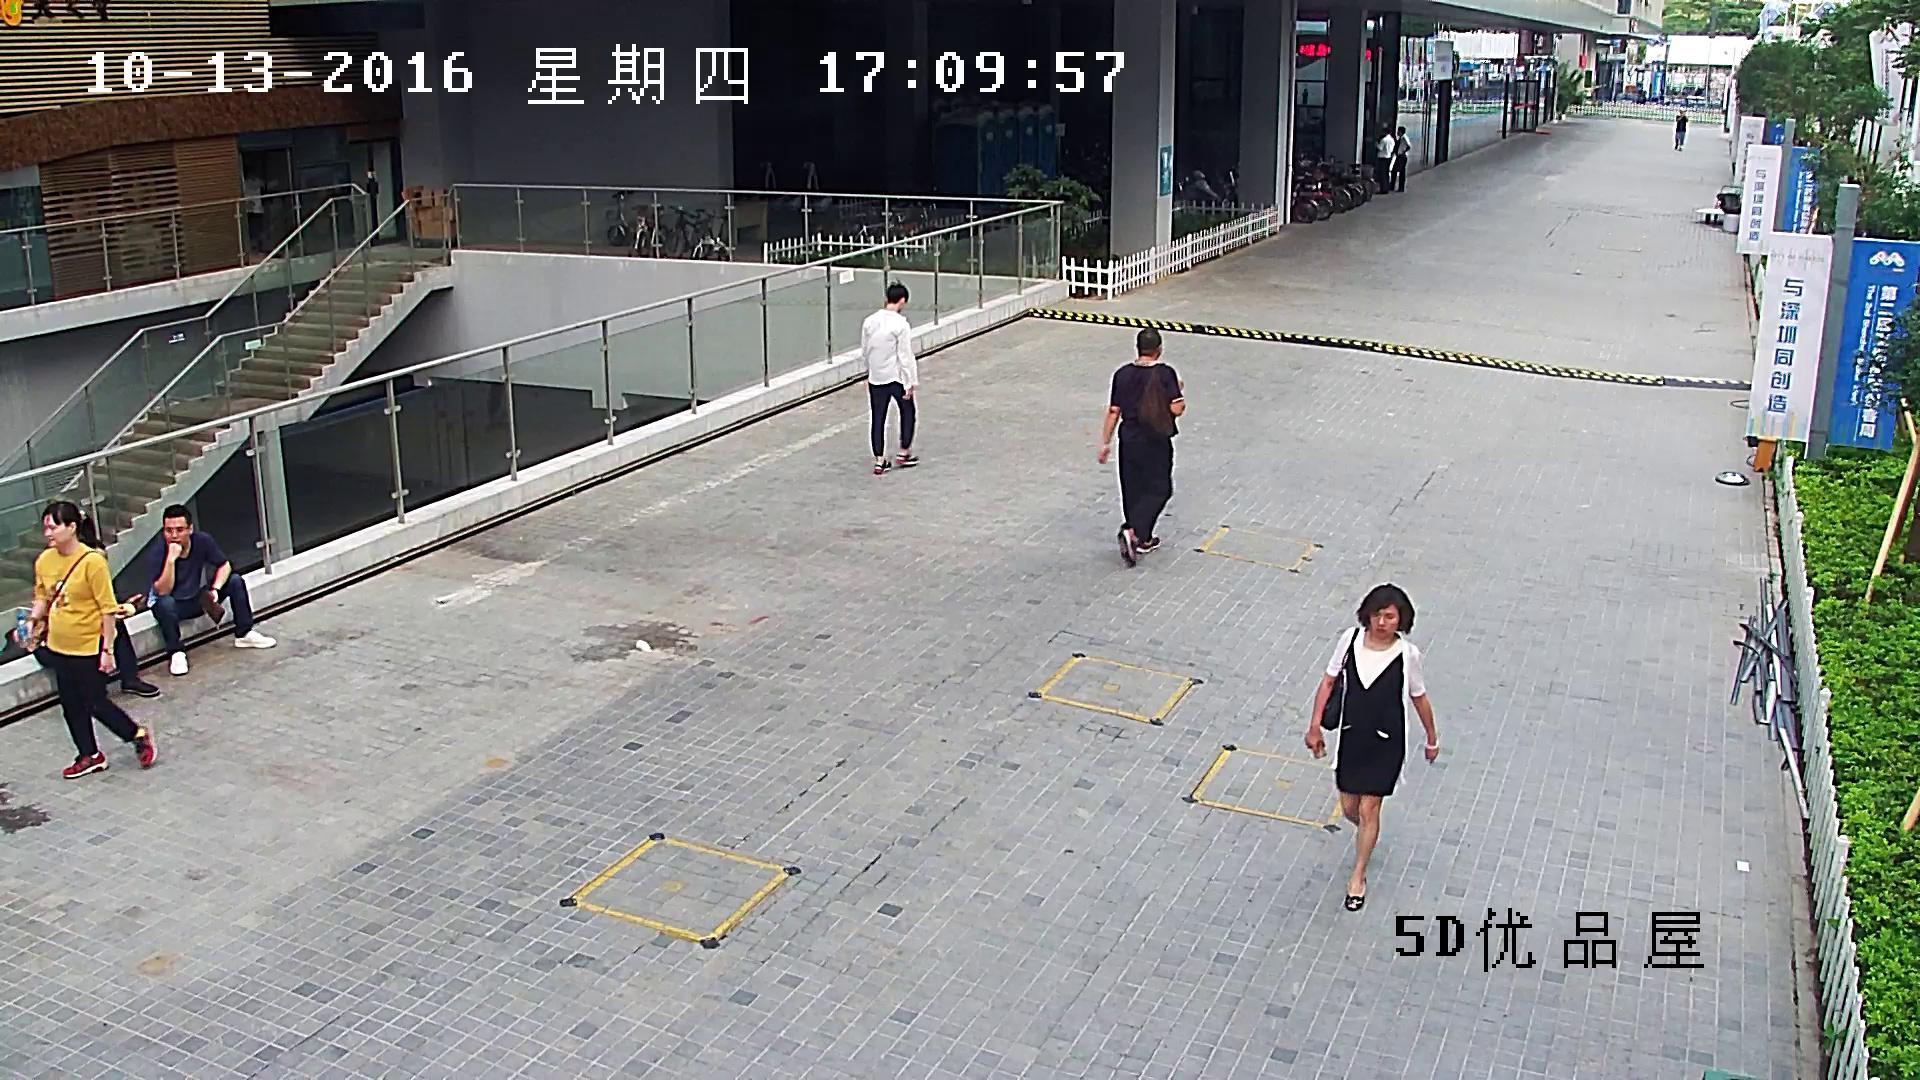person: (1303, 583, 1440, 913), (10, 499, 157, 779), (147, 503, 278, 676), (1095, 327, 1186, 568), (860, 281, 920, 477), (1374, 125, 1395, 196), (1394, 125, 1411, 192), (1674, 108, 1689, 151)
